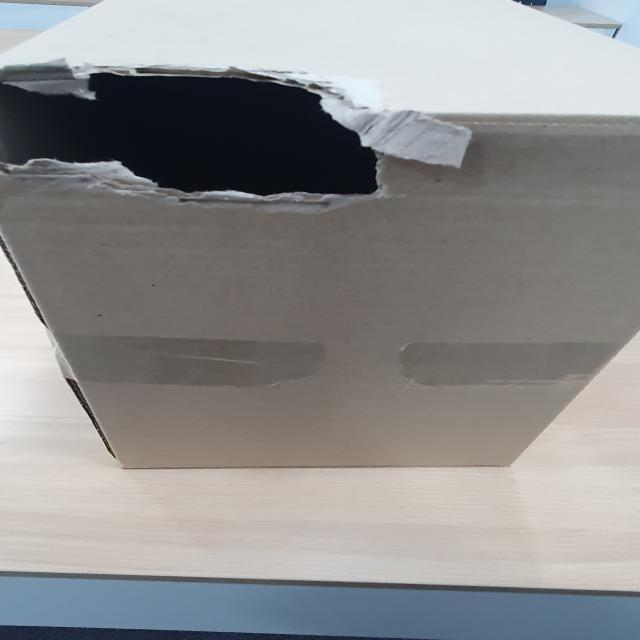hole: (3, 60, 391, 216)
